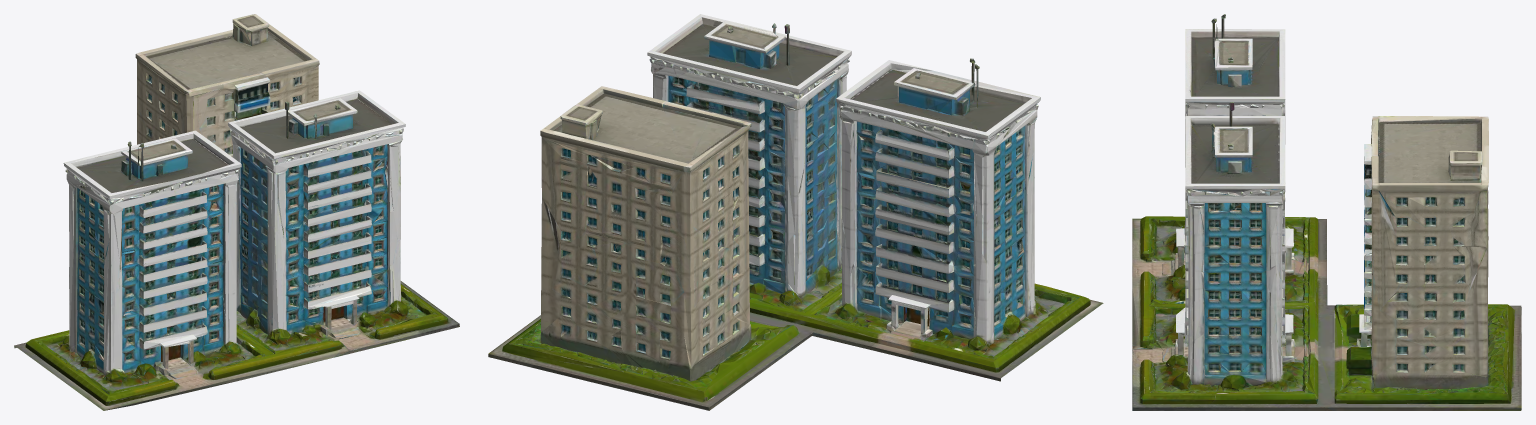
File: town_flats_trop_1x1_4.glb
The picture shows the model from 3 angles, left to right: view 1: azimuth 30°, elevation 25°; view 2: azimuth 150°, elevation 25°; view 3: azimuth 270°, elevation 25°; orthographic projection. The views are drawn at different scales.
Parts seen in each view (by area): view 1: normalize; view 2: normalize; view 3: normalize.
Boxes of the visible parts, x1,y1,x2,y2 form: normalize: [14, 14, 459, 410]; normalize: [488, 14, 1103, 410]; normalize: [1132, 14, 1521, 410].
Size of the model in its own units: 1 by 0.6018 by 0.87.
1 material, 1 textured.
